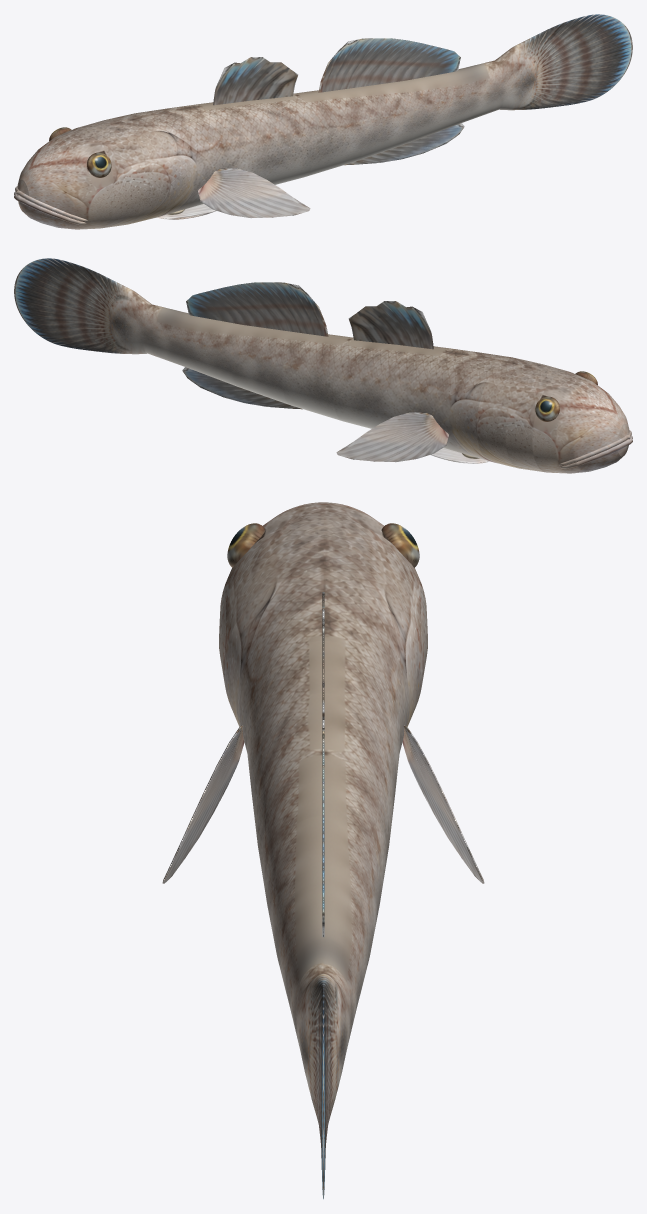
Rendered from female-mobile.glb.
3 renders of one model, top to bottom at view 1: azimuth 30°, elevation 25°; view 2: azimuth 150°, elevation 25°; view 3: azimuth 270°, elevation 25°, orthographic. The views are drawn at different scales.
Visible parts, largest first — view 1: Body_continuous_caudal, Dorsal_2, Pectoral_left, Dorsal_1, Anal, Eye_left, Fused_pelvic_disc, Projecting_lower_lip, Closed_upper_lip; view 2: Body_continuous_caudal, Dorsal_2, Pectoral_right, Dorsal_1, Anal, Eye_right, Fused_pelvic_disc, Projecting_lower_lip, Closed_upper_lip; view 3: Body_continuous_caudal, Pectoral_left, Pectoral_right.
Boxes of the visible parts, x1=… form: Body_continuous_caudal: x1=17, y1=14, x2=632, y2=229; Dorsal_2: x1=318, y1=38, x2=460, y2=92; Pectoral_left: x1=198, y1=168, x2=310, y2=218; Dorsal_1: x1=213, y1=57, x2=298, y2=105; Anal: x1=344, y1=123, x2=464, y2=165; Eye_left: x1=87, y1=152, x2=111, y2=177; Fused_pelvic_disc: x1=157, y1=204, x2=216, y2=219; Projecting_lower_lip: x1=14, y1=191, x2=86, y2=224; Closed_upper_lip: x1=15, y1=186, x2=87, y2=221; Body_continuous_caudal: x1=14, y1=258, x2=629, y2=473; Dorsal_2: x1=186, y1=282, x2=328, y2=336; Pectoral_right: x1=336, y1=412, x2=448, y2=462; Dorsal_1: x1=348, y1=301, x2=433, y2=349; Anal: x1=182, y1=367, x2=302, y2=409; Eye_right: x1=535, y1=396, x2=559, y2=421; Fused_pelvic_disc: x1=430, y1=448, x2=489, y2=463; Projecting_lower_lip: x1=560, y1=435, x2=632, y2=468; Closed_upper_lip: x1=559, y1=430, x2=631, y2=465; Body_continuous_caudal: x1=219, y1=502, x2=427, y2=1199; Pectoral_left: x1=162, y1=725, x2=244, y2=883; Pectoral_right: x1=402, y1=725, x2=484, y2=883.
Size of the model in its own units: 0.0383 by 0.00823 by 0.00866.
1 material, 1 textured.
